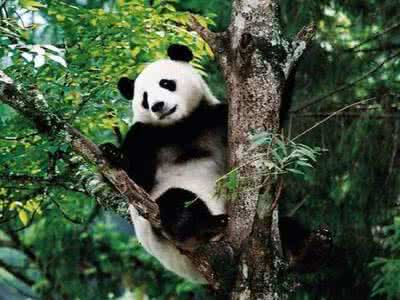panda: (100, 39, 231, 245)
